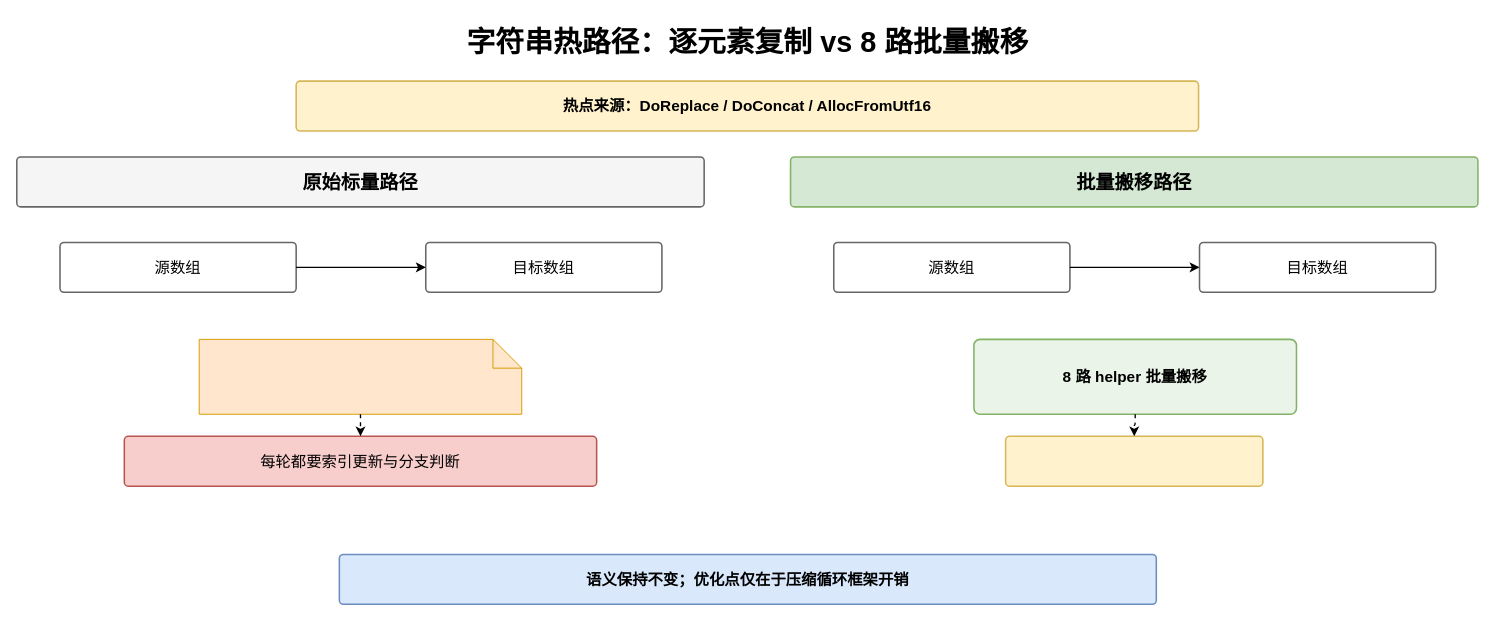
Image size: 1496x621. Some labels were removed from this diagram. The centre of each missing label's shape, as x and y in pixels:
"尾段 remainder 路径" goes at point 1133,461.
"逐元素复制 / 替换" goes at point 360,376.
